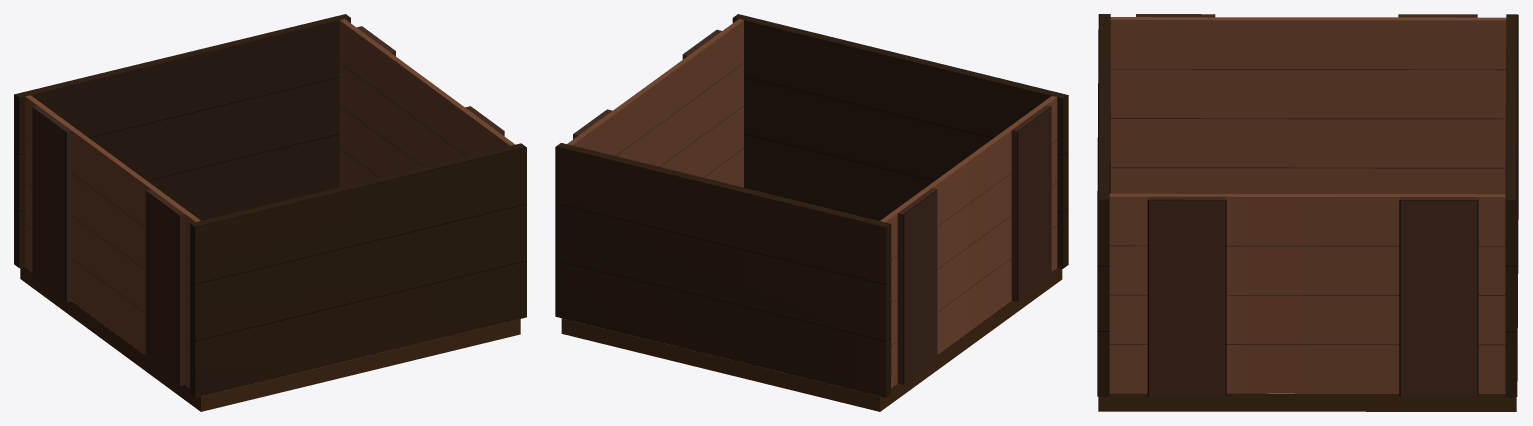
File: Med Wide Crate w_Lid Open#2.fbx
3 renders of one model, left to right at view 1: azimuth 30°, elevation 25°; view 2: azimuth 150°, elevation 25°; view 3: azimuth 270°, elevation 25°, orthographic. The views are drawn at different scales.
Visible parts, largest first — view 1: Wide Colored Crate #2; view 2: Wide Colored Crate #2; view 3: Wide Colored Crate #2.
Part boxes in pixels (x1,y1,x2,y2): Wide Colored Crate #2: (14,14,526,411); Wide Colored Crate #2: (555,14,1068,411); Wide Colored Crate #2: (1097,14,1518,411).
Bounding box in the file's own units: 173 × 308 × 323.
1 material, 1 textured.
